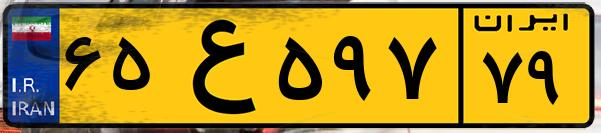5: (270, 28, 330, 110), (110, 28, 158, 98)
6: (57, 26, 110, 100)
7: (385, 28, 445, 110), (475, 38, 525, 113)
9: (330, 28, 385, 110), (525, 38, 570, 115)
ع: (158, 12, 270, 120)
